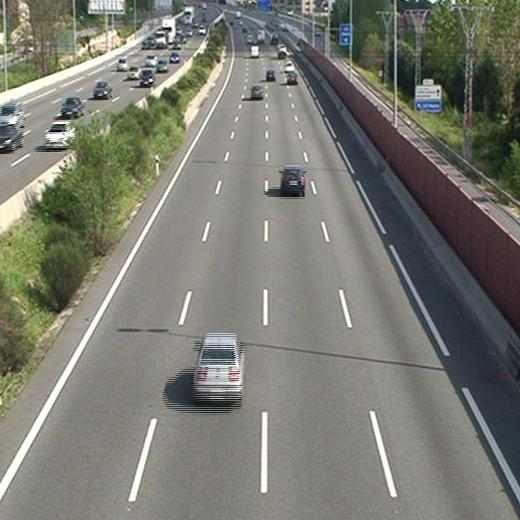car: (193, 332, 243, 400), (277, 165, 306, 193), (250, 84, 265, 100), (288, 72, 300, 84), (266, 69, 278, 81)
van: (250, 45, 260, 59)
